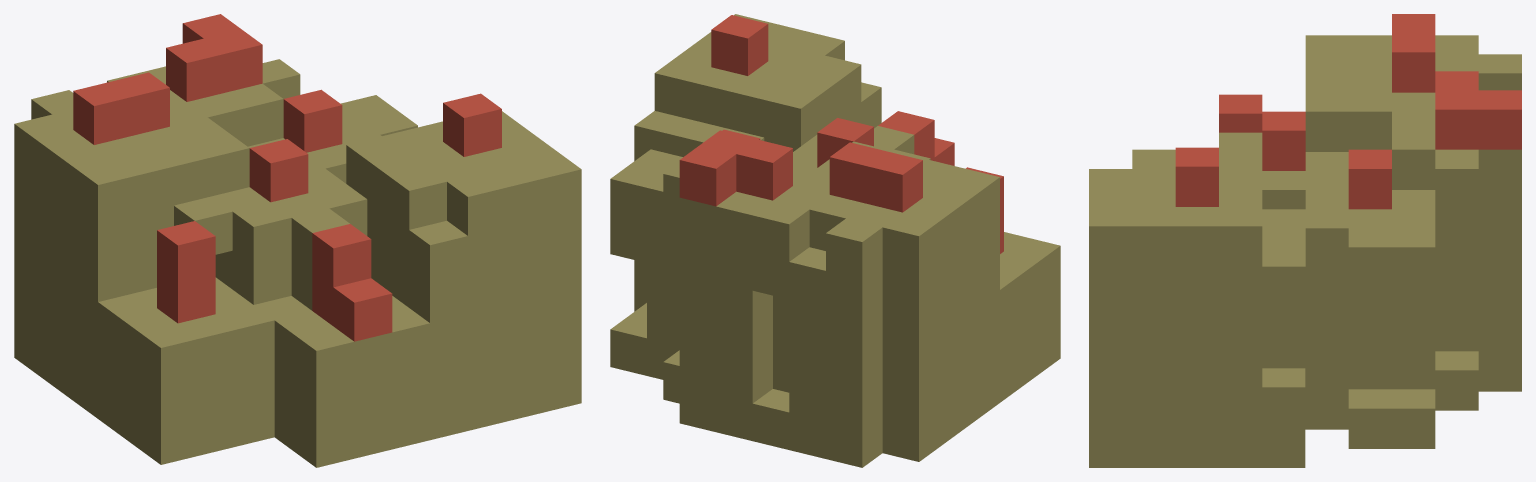
File: candles-quaternius_AnzHB44wlW-blocky.glb
3 renders of one model, left to right at view 1: azimuth 30°, elevation 25°; view 2: azimuth 150°, elevation 25°; view 3: azimuth 270°, elevation 25°, orthographic. The views are drawn at different scales.
Parts seen in each view (by area): view 1: Candles_1; view 2: Candles_1; view 3: Candles_1.
Part boxes in pixels (x1,y1,x2,y2): Candles_1: (14, 14, 581, 467); Candles_1: (610, 14, 1060, 467); Candles_1: (1089, 14, 1521, 467).
Size of the model in its own units: 0.881 by 0.6067 by 0.8436.
